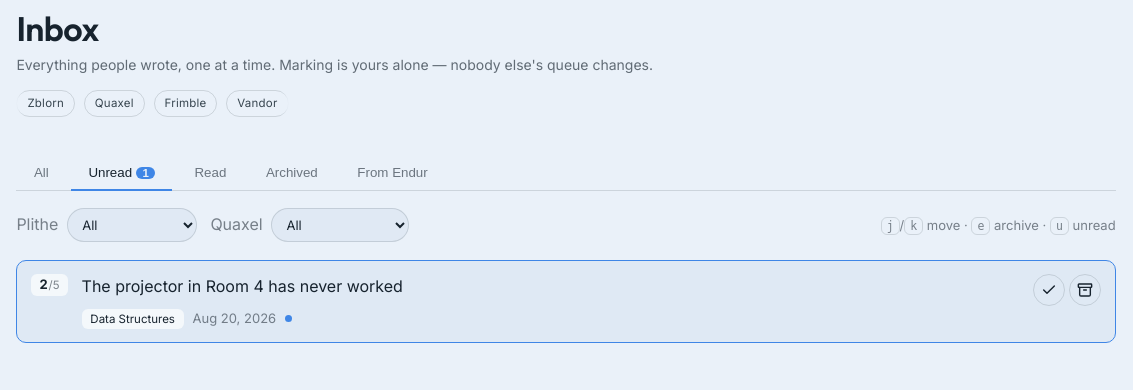
Test: marking is optimistic and belongs to the reader › REVERTS THE ONE CARD and says so on it when the save fails
Expected: the button "The projector in Room 4 has never worked" is shown, left=82, top=274, right=1020, bottom=300
Click the button titled "Mark read (u)" at (1049, 290), box left=1033, top=274, right=1065, bottom=306
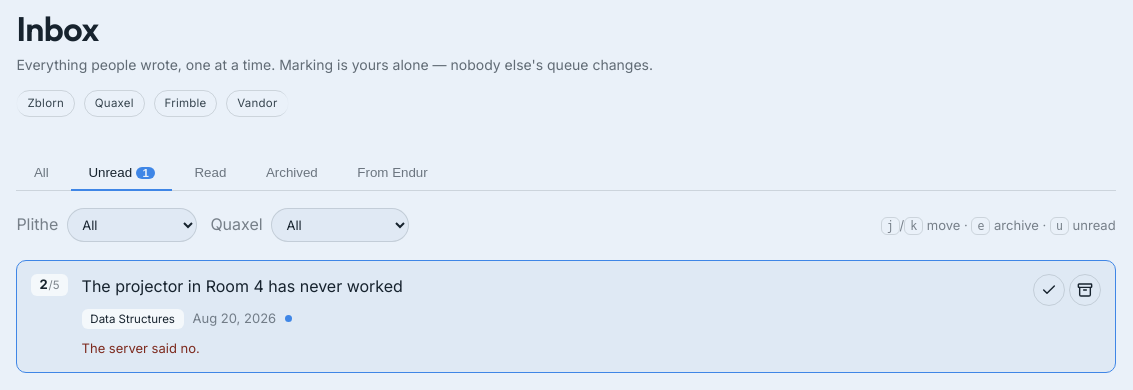
Expected: the button "The projector in Room 4 has never worked" is shown, left=82, top=274, right=1020, bottom=300
Expected: the text "The server said no." is shown, left=82, top=340, right=200, bottom=356
